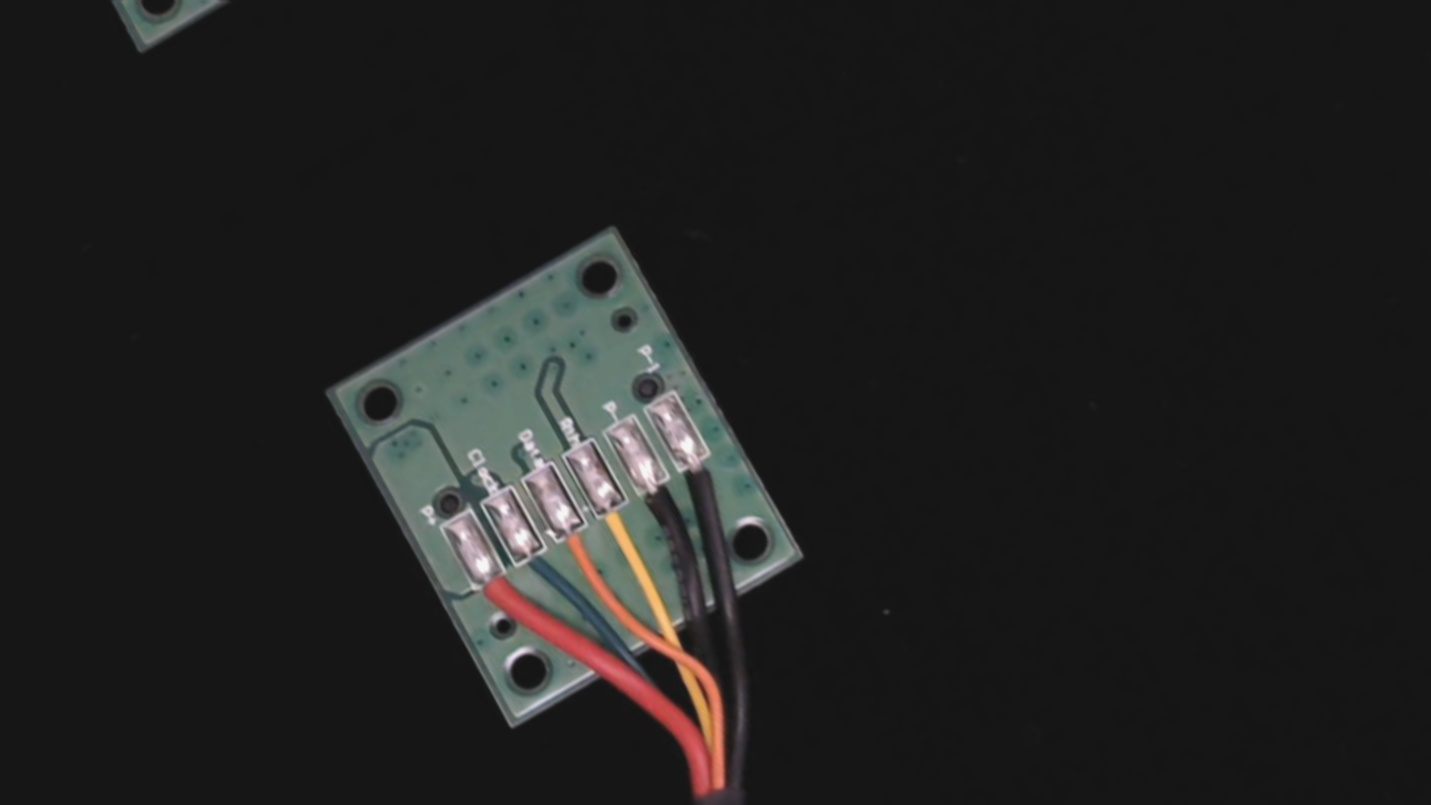Black: (624, 464, 706, 554)
Black1: (667, 438, 744, 523)
Green: (500, 529, 575, 610)
Orange: (541, 508, 622, 599)
Red: (458, 553, 536, 635)
Yellow: (579, 484, 665, 577)
